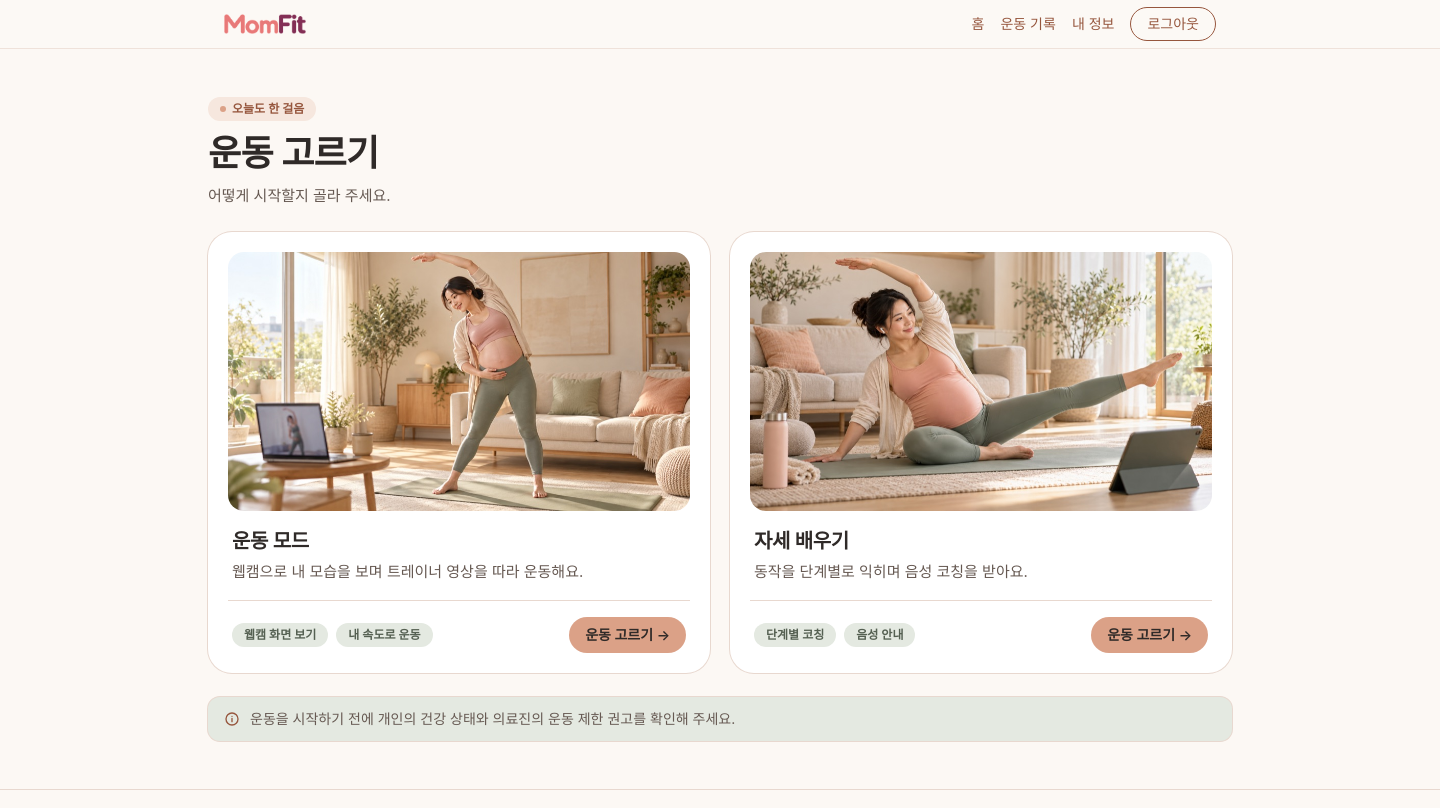
Test: 화면 전환 애니메이션 › 같은 경로라도 쿼리가 바뀌면(/workouts?mode=) 애니메이션을 다시 재생한다
The width and height of the screenshot is (1440, 808).
Click the link "운동 모드".
click(459, 452)  # box [208,232,710,673]
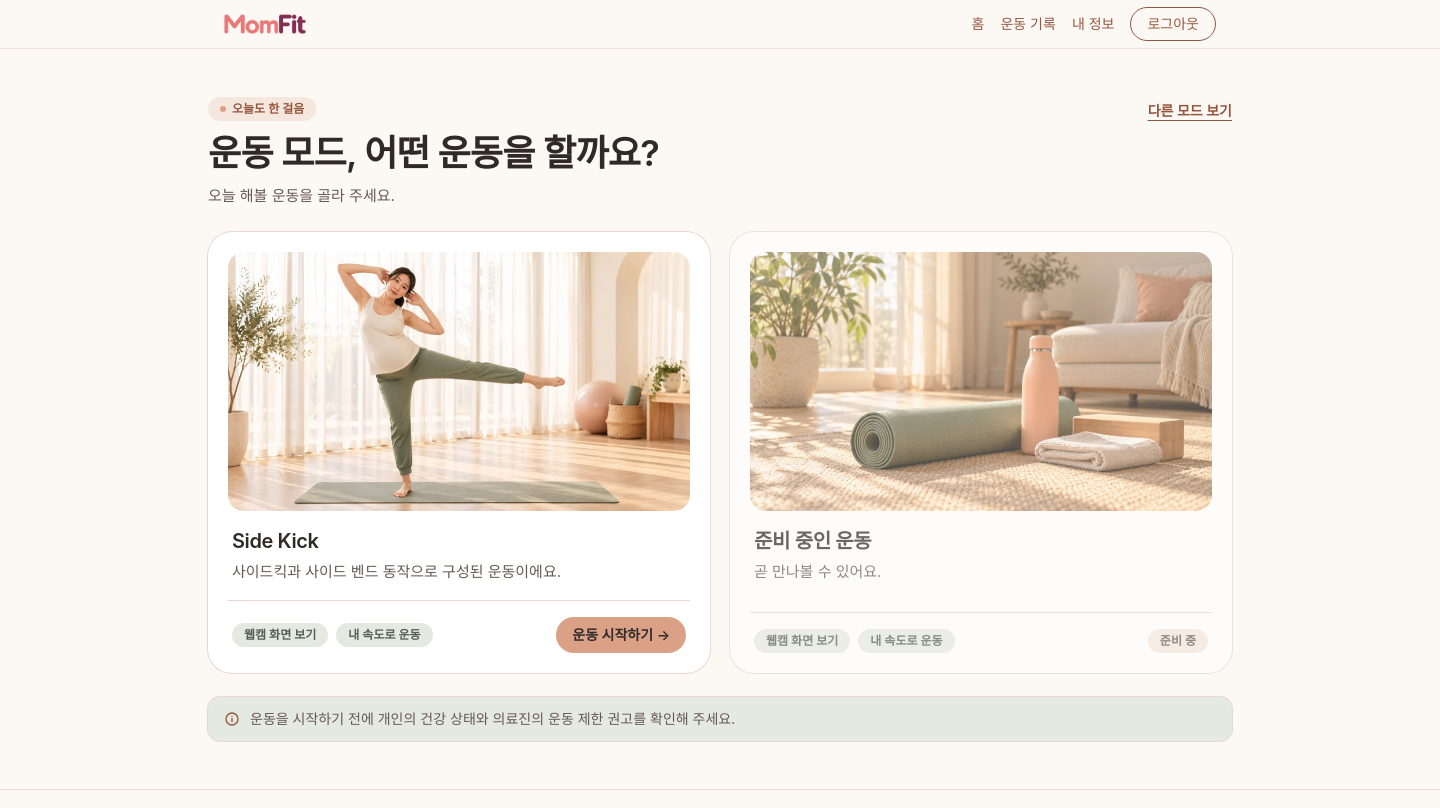
Check: the heading "운동 모드, 어떤 운동을 할까요?" is shown, box [208,133,659,173]
